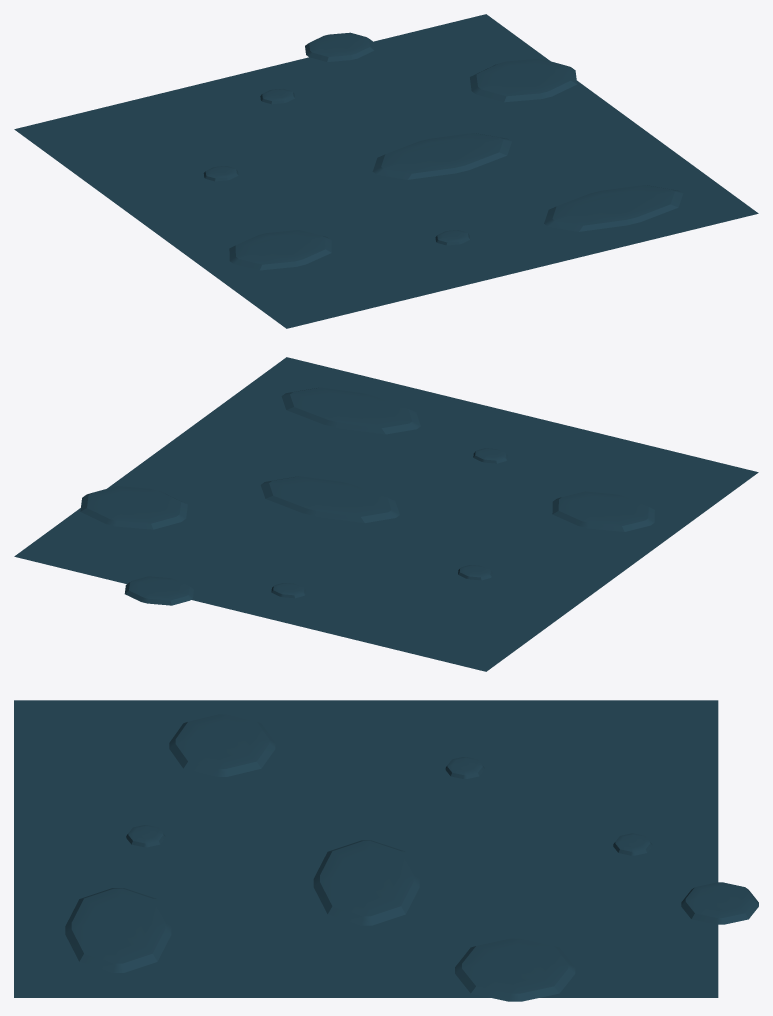
File: Ground_Tile_2.fbx
3 views of the same model, one above another, from view 1: azimuth 30°, elevation 25°; view 2: azimuth 150°, elevation 25°; view 3: azimuth 270°, elevation 25° (orthographic). The views are drawn at different scales.
Parts seen in each view (by area): view 1: Ground_Tile_2; view 2: Ground_Tile_2; view 3: Ground_Tile_2.
Boxes of the visible parts, bbox=[...] form: Ground_Tile_2: bbox=[14, 14, 758, 328]; Ground_Tile_2: bbox=[14, 357, 758, 671]; Ground_Tile_2: bbox=[14, 700, 758, 1001].
Size of the model in its own units: 6.98 by 0.0856 by 7.26.
